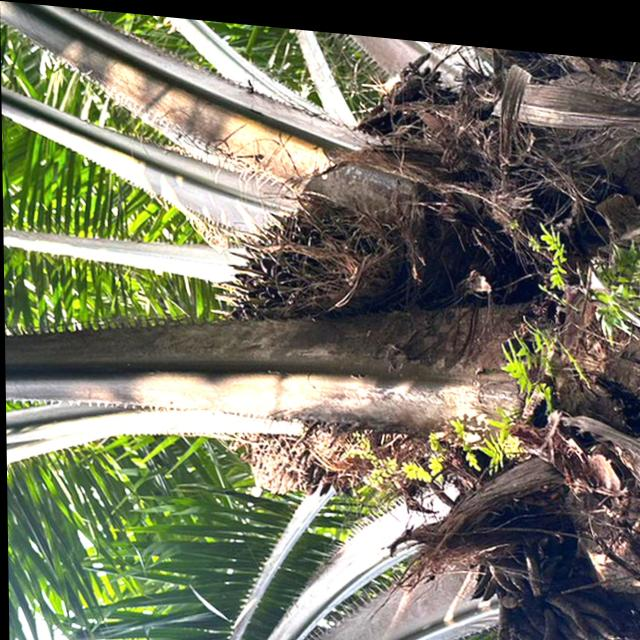unripe: (206, 169, 403, 345)
